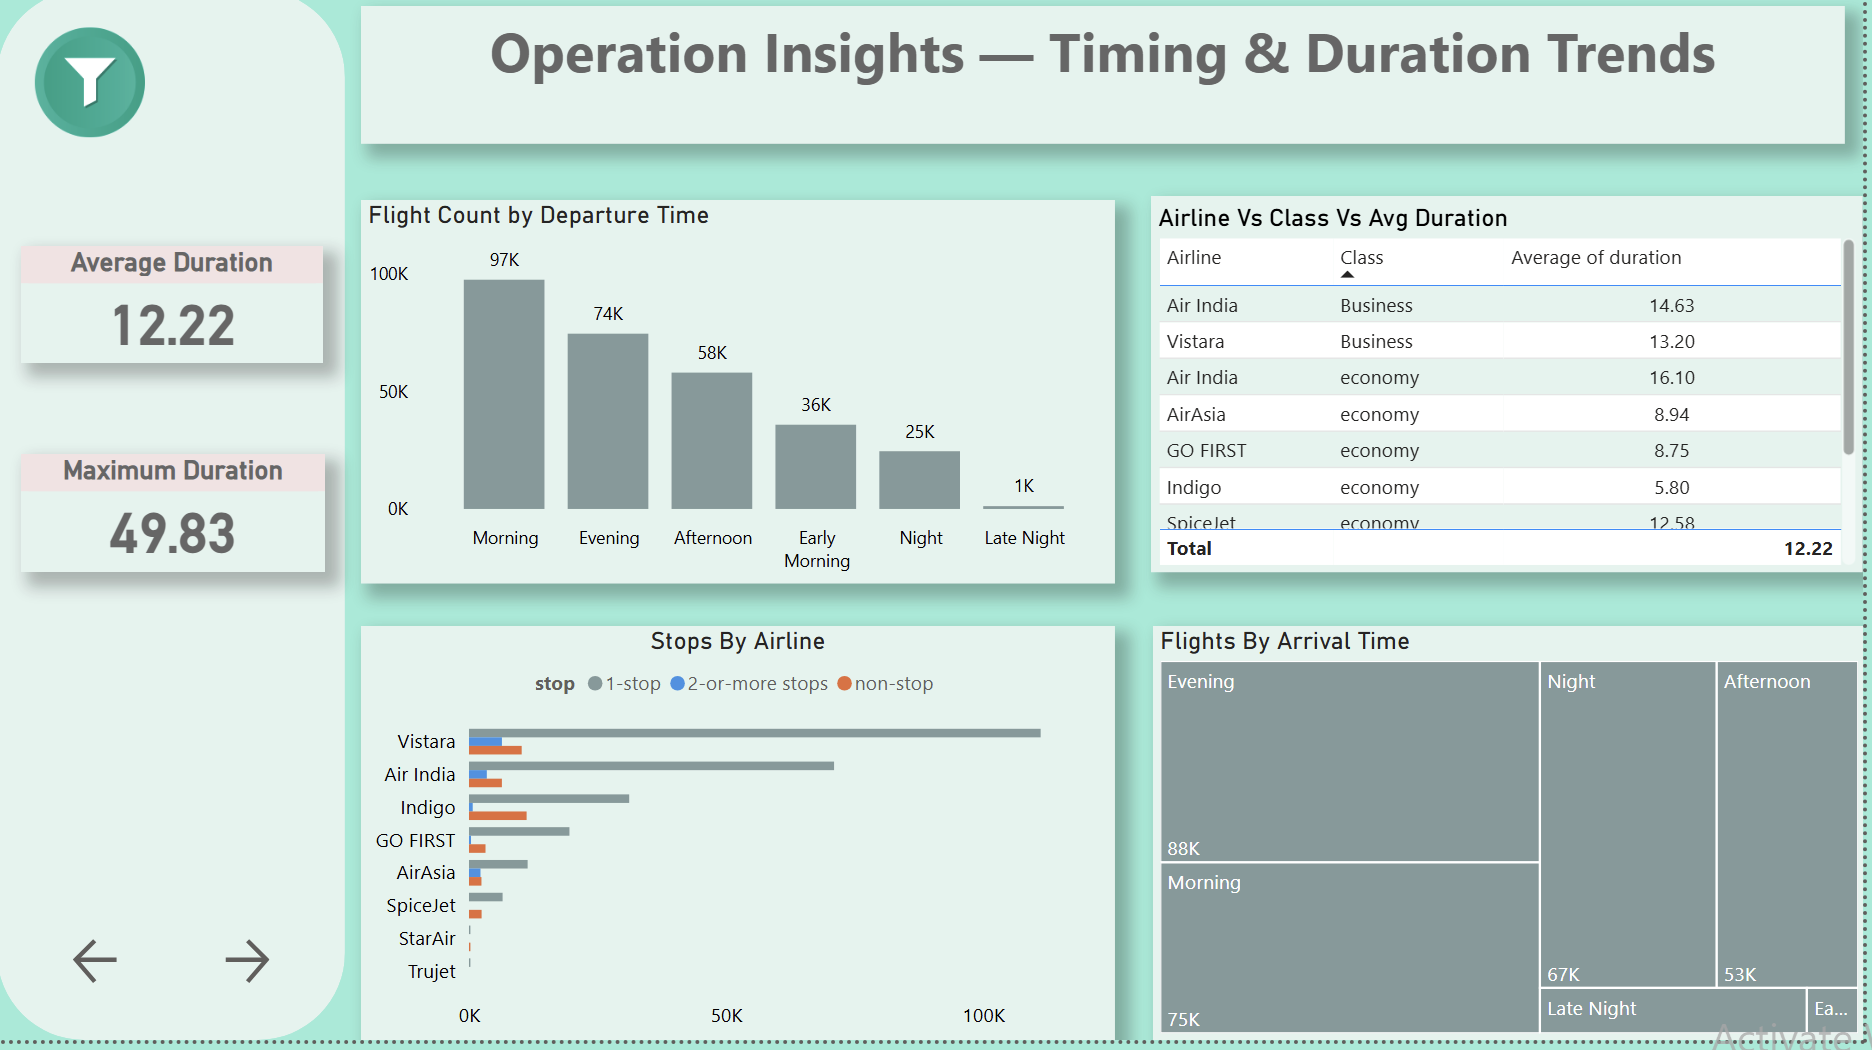

The dashboard page shown, as its layout file describes it:
{"tool":"powerbi","page":{"name":"Operation Insights","canvas":[1280,720],"ordinal":2},"visuals":[{"type":"clusteredColumnChart","title":"Flight Count by Departure Time","fields":{"Y":["cleaned_flight_data.count_flights"],"Category":["cleaned_flight_data.dep_time"]},"box":[250,144.3,517.1,262.9],"z":0},{"type":"clusteredBarChart","title":"Stops By Airline","fields":{"Category":["cleaned_flight_data.airline"],"Series":["cleaned_flight_data.stop"],"Y":["cleaned_flight_data.count_flights"]},"box":[250,435.7,517.1,285.7],"z":1000},{"type":"treemap","title":"Flights By Arrival Time","fields":{"Details":["cleaned_flight_data.arr_time"],"Values":["cleaned_flight_data.count_flights"]},"box":[792.9,435.7,488.6,284.3],"z":2000},{"type":"tableEx","title":"Airline Vs Class Vs Avg Duration","fields":{"Values":["cleaned_flight_data.airline","cleaned_flight_data.class","Avg(cleaned_flight_data.duration)"]},"box":[791.3,141.3,488.2,257.8],"z":3000},{"type":"shape","box":[0,0,238.6,720],"z":4000},{"type":"textbox","box":[249.6,11,1017.6,94.6],"z":5000},{"type":"card","title":"Average Duration","fields":{"Values":["Avg(cleaned_flight_data.duration)"]},"box":[17.1,175.7,207.1,80],"z":6000},{"type":"card","title":"Maximum Duration","fields":{"Values":["Max(cleaned_flight_data.duration)"]},"box":[16.5,318.2,208.5,80.9],"z":7000},{"type":"image","box":[17.1,20,94.3,85.7],"z":8000},{"type":"actionButton","box":[151.4,645.7,71.4,40],"z":9000},{"type":"actionButton","box":[48.6,645.7,72.9,40],"z":10000}]}

Visuals, with their boxes in screenshot pixels (x1, y1, x2, y2), scaled from the page's 1280x720 canvas onto the 1872x1050 screenshot:
"Flight Count by Departure Time" clusteredColumnChart: crop(366, 210, 1122, 594)
"Stops By Airline" clusteredBarChart: crop(366, 635, 1122, 1049)
"Flights By Arrival Time" treemap: crop(1160, 635, 1871, 1049)
"Airline Vs Class Vs Avg Duration" tableEx: crop(1157, 206, 1871, 582)
shape: crop(0, 0, 349, 1049)
textbox: crop(365, 16, 1853, 154)
"Average Duration" card: crop(25, 256, 328, 373)
"Maximum Duration" card: crop(24, 464, 329, 582)
image: crop(25, 29, 163, 154)
actionButton: crop(221, 942, 326, 1000)
actionButton: crop(71, 942, 178, 1000)
